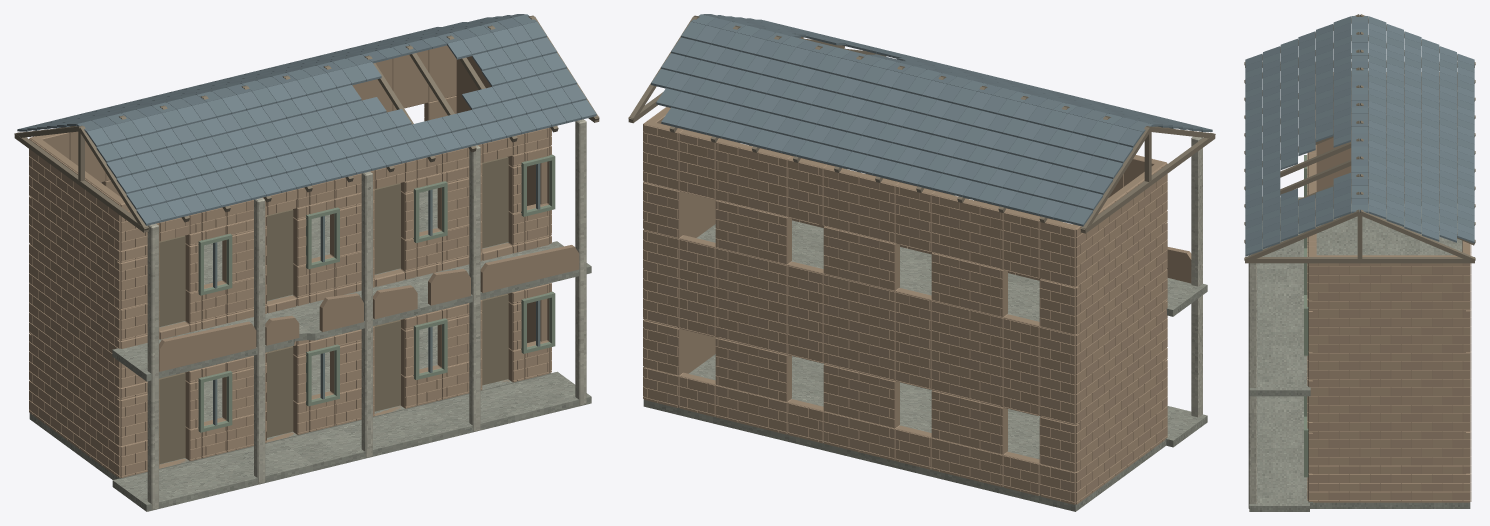
The model's file is 007_ochre_gallery_apartment_pitched_roof.glb.
The picture shows the model from 3 angles, left to right: view 1: azimuth 30°, elevation 25°; view 2: azimuth 150°, elevation 25°; view 3: azimuth 270°, elevation 25°; orthographic projection. The views are drawn at different scales.
Visible parts, largest first — view 1: BLD-007_individual_brick, BLD-007_pitched_roof_covering, BLD-007_doors, BLD-007_columns, Ground_gallery, BLD-007_gallery_front, BLD-007_parapet, BLD-007_frames, Upper_gallery_floor, BLD-007_gallery_back, BLD-007_pitched_roof_structure, Gallery_foundation (+2 smaller); view 2: BLD-007_individual_brick, BLD-007_pitched_roof_covering, BLD-007_gallery_back, Gallery_foundation, BLD-007_pitched_roof_structure, Gallery_internal_floor, BLD-007_columns, BLD-007_gallery_ends, Ground_gallery, BLD-007_gallery_front, Upper_gallery_floor, BLD-007_parapet; view 3: BLD-007_pitched_roof_covering, BLD-007_individual_brick, Upper_gallery_floor, BLD-007_pitched_roof_structure, Ground_gallery, BLD-007_gallery_ends, Gallery_internal_floor, BLD-007_columns, Gallery_foundation, BLD-007_frames, BLD-007_gallery_front, BLD-007_gallery_back.
Boxes of the visible parts, left/top/right/bottom form: BLD-007_individual_brick: left=29, top=104, right=551, bottom=477; BLD-007_pitched_roof_covering: left=17, top=14, right=596, bottom=225; BLD-007_doors: left=159, top=157, right=508, bottom=464; BLD-007_columns: left=147, top=119, right=586, bottom=509; Ground_gallery: left=112, top=371, right=591, bottom=511; BLD-007_gallery_front: left=117, top=127, right=550, bottom=477; BLD-007_parapet: left=159, top=245, right=579, bottom=371; BLD-007_frames: left=198, top=154, right=555, bottom=432; Upper_gallery_floor: left=112, top=241, right=591, bottom=381; BLD-007_gallery_back: left=30, top=45, right=456, bottom=380; BLD-007_pitched_roof_structure: left=14, top=15, right=599, bottom=232; Gallery_foundation: left=29, top=325, right=551, bottom=479; BLD-007_individual_brick: left=643, top=107, right=1167, bottom=504; BLD-007_pitched_roof_covering: left=651, top=14, right=1212, bottom=226; BLD-007_gallery_back: left=644, top=121, right=1078, bottom=504; Gallery_foundation: left=643, top=354, right=1166, bottom=511; BLD-007_pitched_roof_structure: left=628, top=15, right=1215, bottom=233; Gallery_internal_floor: left=696, top=220, right=1039, bottom=321; BLD-007_columns: left=1191, top=136, right=1202, bottom=417; BLD-007_gallery_ends: left=647, top=107, right=1163, bottom=373; Ground_gallery: left=1166, top=405, right=1207, bottom=447; BLD-007_gallery_front: left=760, top=148, right=1166, bottom=406; Upper_gallery_floor: left=1166, top=278, right=1207, bottom=316; BLD-007_parapet: left=1167, top=247, right=1191, bottom=283; BLD-007_pitched_roof_covering: left=1245, top=16, right=1474, bottom=256; BLD-007_individual_brick: left=1307, top=153, right=1471, bottom=502; Upper_gallery_floor: left=1249, top=197, right=1310, bottom=396; BLD-007_pitched_roof_structure: left=1244, top=14, right=1475, bottom=263; Ground_gallery: left=1249, top=396, right=1309, bottom=511; BLD-007_gallery_ends: left=1313, top=72, right=1465, bottom=502; Gallery_internal_floor: left=1316, top=204, right=1462, bottom=255; BLD-007_columns: left=1248, top=254, right=1256, bottom=508; Gallery_foundation: left=1308, top=502, right=1470, bottom=508; BLD-007_frames: left=1304, top=155, right=1308, bottom=477; BLD-007_gallery_front: left=1308, top=74, right=1316, bottom=501; BLD-007_gallery_back: left=1462, top=241, right=1470, bottom=501.
Bounding box in the file's own units: 12.69 × 9.07 × 6.29.
Materials: 14 (3 with a texture image).
